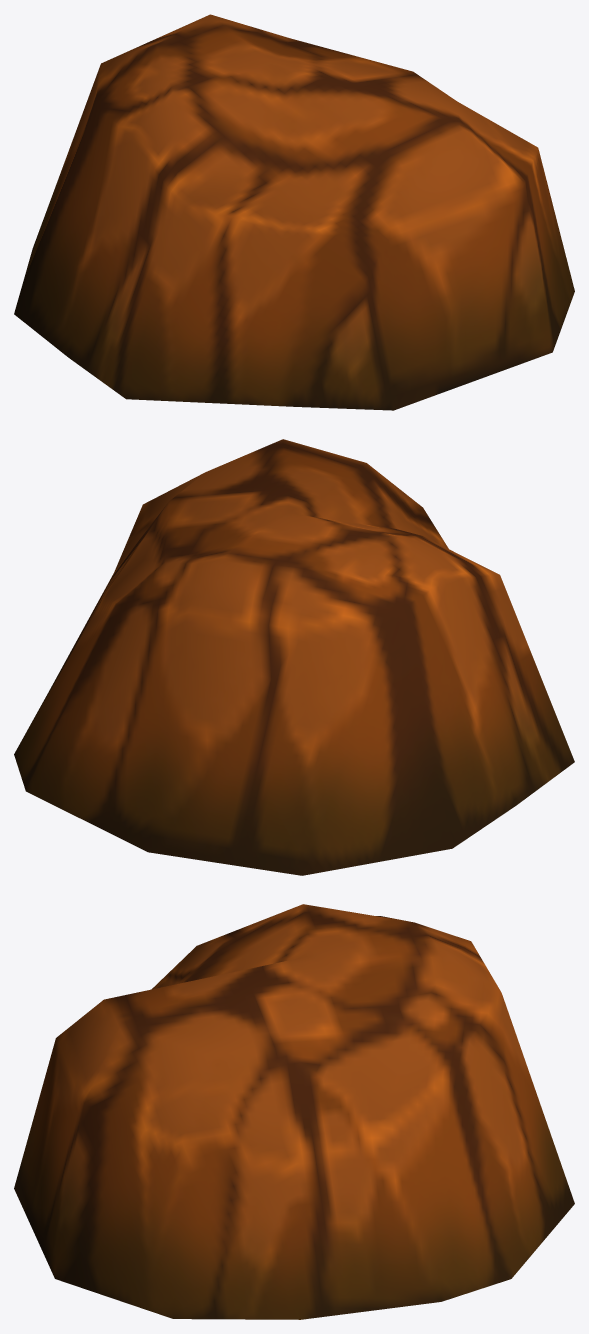
File: Rock_03.FBX
3 renders of one model, top to bottom at view 1: azimuth 30°, elevation 25°; view 2: azimuth 150°, elevation 25°; view 3: azimuth 270°, elevation 25°, orthographic. The views are drawn at different scales.
Parts seen in each view (by area): view 1: Rock_03; view 2: Rock_03; view 3: Rock_03.
Part boxes in pixels (x1=…): Rock_03: x1=14, y1=14, x2=574, y2=410; Rock_03: x1=14, y1=439, x2=574, y2=875; Rock_03: x1=14, y1=904, x2=574, y2=1319.
Bounding box in the file's own units: 98.76 × 49.37 × 103.
